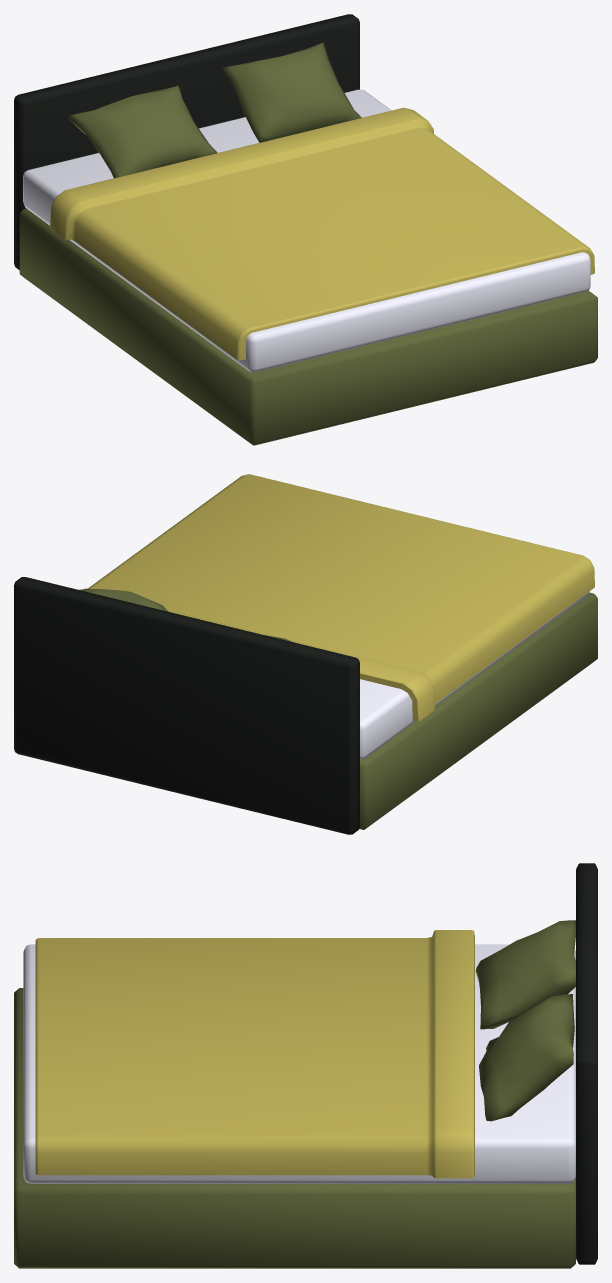
Rendered from Prop_Bed_05.fbx.
3 views of the same model, one above another, from view 1: azimuth 30°, elevation 25°; view 2: azimuth 150°, elevation 25°; view 3: azimuth 270°, elevation 25° (orthographic). The views are drawn at different scales.
Visible parts, largest first — view 1: Prop_Bed_05; view 2: Prop_Bed_05; view 3: Prop_Bed_05.
Part boxes in pixels (left/top/right/bottom): Prop_Bed_05: left=14, top=14, right=597, bottom=445; Prop_Bed_05: left=14, top=474, right=597, bottom=834; Prop_Bed_05: left=14, top=863, right=597, bottom=1268.
Bounding box in the file's own units: 191 × 85.85 × 218.
